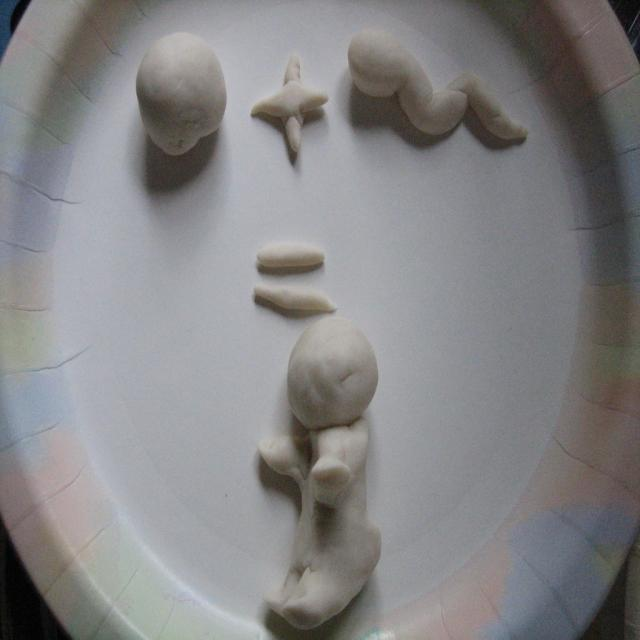ceramic plate: (5, 3, 640, 639)
